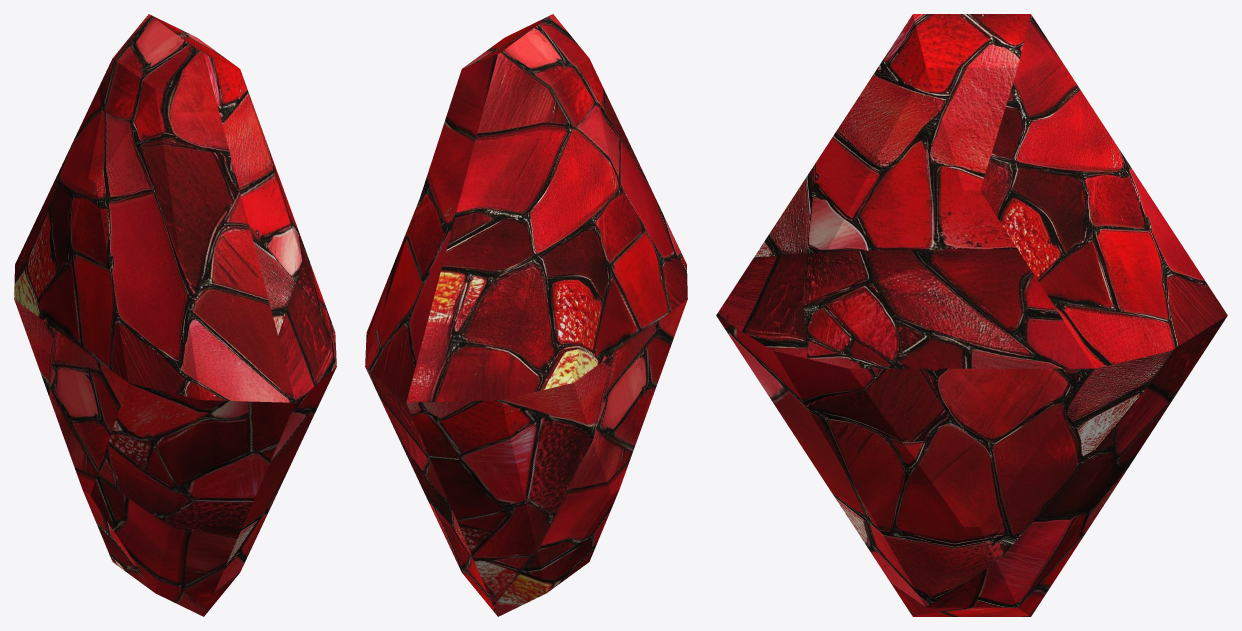
The model's file is gemstone7RedCompressed.glb.
3 renders of one model, left to right at view 1: azimuth 30°, elevation 25°; view 2: azimuth 150°, elevation 25°; view 3: azimuth 270°, elevation 25°, orthographic. The views are drawn at different scales.
Parts seen in each view (by area): view 1: gemstone6; view 2: gemstone6; view 3: gemstone6.
Part boxes in pixels (x1,y1,x2,y2): gemstone6: (14, 14, 336, 616); gemstone6: (365, 14, 687, 616); gemstone6: (716, 14, 1227, 616).
Size of the model in its own units: 0.5 by 1.3 by 1.
1 material, 1 textured.
